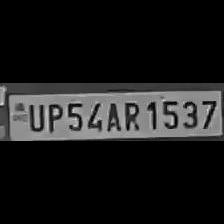1: (141, 98, 159, 130)
3: (180, 97, 198, 129)
4: (84, 98, 104, 132)
5: (63, 98, 83, 132), (158, 96, 178, 130)
7: (198, 97, 218, 129)
A: (103, 99, 121, 131)
P: (44, 100, 62, 134)
R: (120, 98, 140, 132)
U: (23, 102, 44, 132)
